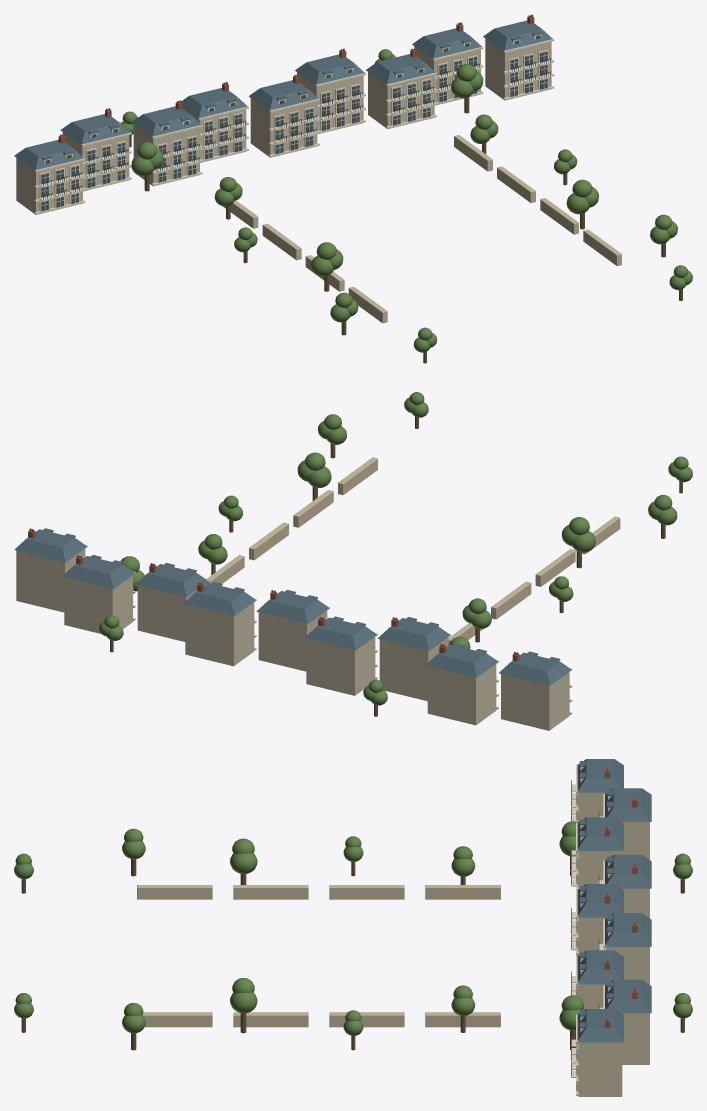
The model's file is region_village_runtime.glb.
The picture shows the model from 3 angles, top to bottom: view 1: azimuth 30°, elevation 25°; view 2: azimuth 150°, elevation 25°; view 3: azimuth 270°, elevation 25°; orthographic projection. The views are drawn at different scales.
Visible parts, largest first — view 1: Static Warm limestone, Static Pale carved stone, Static Blue zinc, Static Linden green, Static Window blue, Static Limestone, Static Wrought iron, Static Bark, Static Chimney terracotta; view 2: Static Warm limestone, Static Blue zinc, Static Linden green, Static Limestone, Static Bark, Static Chimney terracotta; view 3: Static Blue zinc, Static Warm limestone, Static Limestone, Static Linden green, Static Pale carved stone, Static Bark, Static Chimney terracotta.
Part boxes in pixels (x1,y1,x2,y2): Static Warm limestone: (16,38,551,214); Static Pale carved stone: (34,34,554,214); Static Blue zinc: (14,20,552,170); Static Linden green: (120,49,692,352); Static Window blue: (41,35,547,211); Static Limestone: (223,135,621,323); Static Wrought iron: (42,58,551,199); Static Bark: (129,97,682,363); Static Chimney terracotta: (58,14,534,143); Static Warm limestone: (16,548,569,730); Static Blue zinc: (14,528,571,685); Static Linden green: (99,392,692,705); Static Limestone: (206,457,620,644); Static Bark: (110,416,682,716); Static Chimney terracotta: (28,528,519,661); Static Blue zinc: (577,759,651,1042); Static Warm limestone: (578,792,649,1096); Static Limestone: (137,885,500,1027); Static Linden green: (14,821,692,1035); Static Pale carved stone: (571,764,611,1095); Static Bark: (21,856,684,1050); Static Chimney terracotta: (604,767,637,1028).
Bounding box in the file's own units: 48.7 × 5.96 × 49.46.
